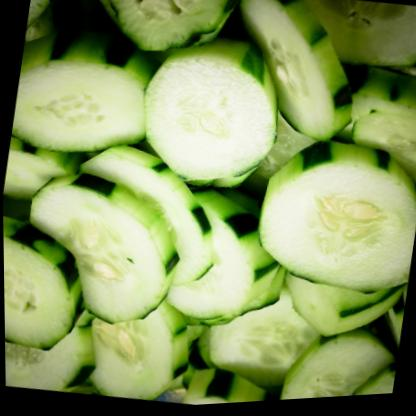--: (245, 132, 416, 312), (6, 170, 186, 339), (128, 30, 296, 199), (7, 23, 168, 174), (2, 207, 103, 366)
